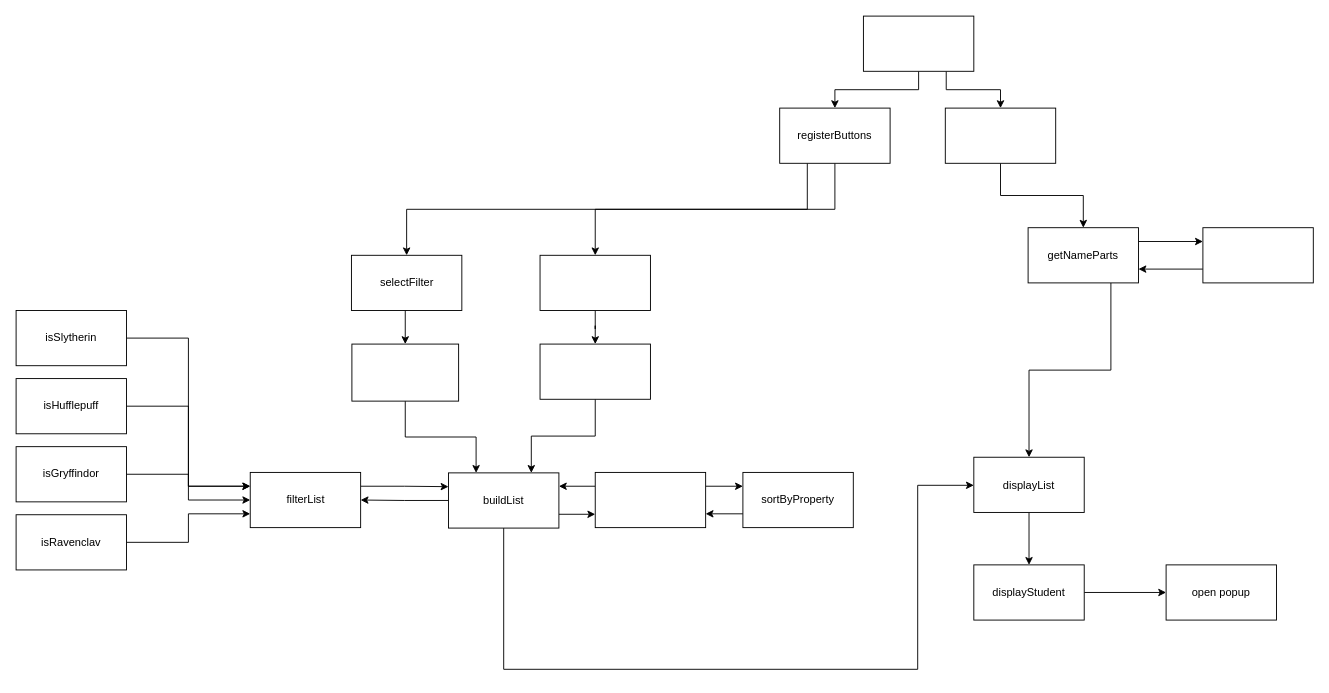
This 1329x693 diagram has some shape labels left out. Each missing label, with the centre of its shape:
capitalize: (1257,255)
loadJSON: (1000,135)
selectSort: (594,282)
setFilter: (405,372)
setSort: (594,371)
sortList: (650,500)
start: (918,43)
